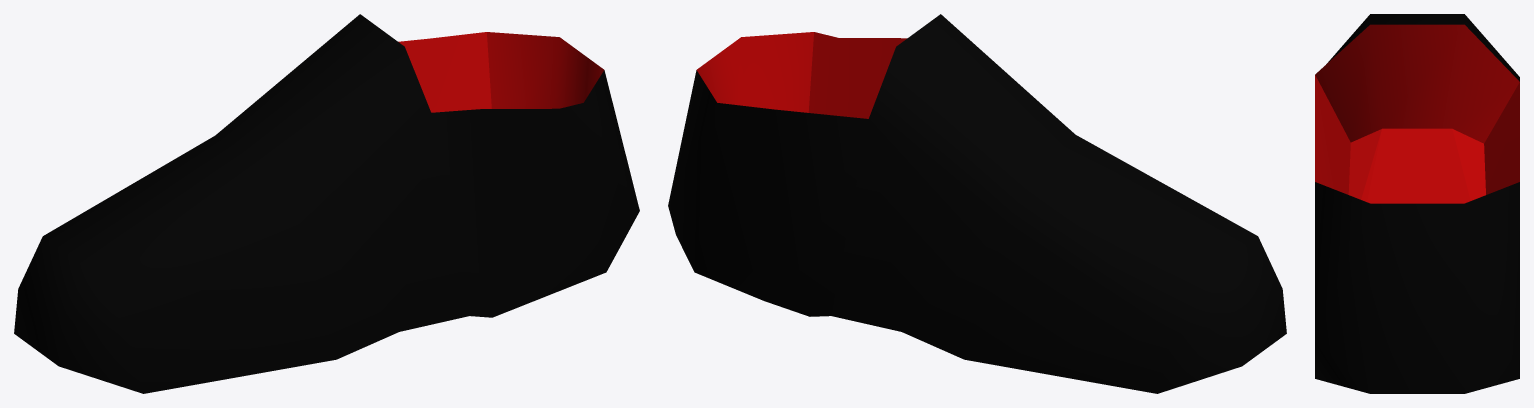
Rendered from galosha.FBX.
The picture shows the model from 3 angles, left to right: view 1: azimuth 30°, elevation 25°; view 2: azimuth 150°, elevation 25°; view 3: azimuth 270°, elevation 25°; orthographic projection. The views are drawn at different scales.
Visible parts, largest first — view 1: galosha; view 2: galosha; view 3: galosha.
Part boxes in pixels (bbox=[...]): galosha: bbox=[14, 14, 639, 393]; galosha: bbox=[668, 14, 1286, 393]; galosha: bbox=[1315, 14, 1519, 393].
Size of the model in its own units: 186 by 85.1 by 55.16.
